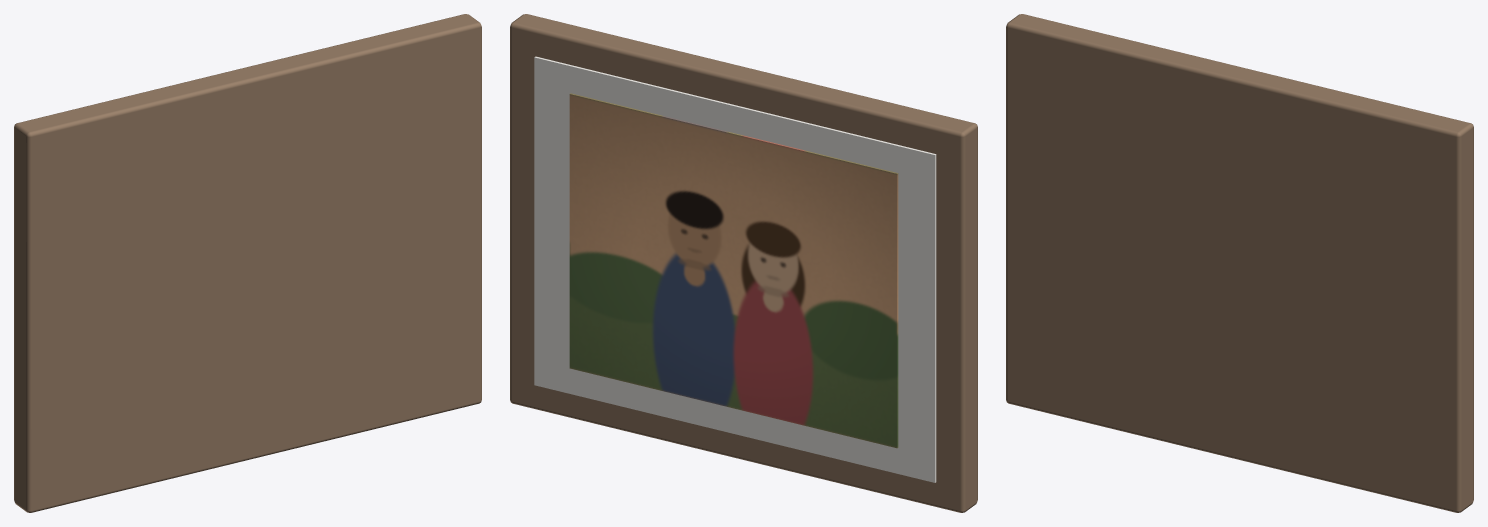
File: escena.casa.foto_pareja.fbx
3 views of the same model, side by side, from view 1: azimuth 30°, elevation 25°; view 2: azimuth 150°, elevation 25°; view 3: azimuth 330°, elevation 25° (orthographic).
Visible parts, largest first — view 1: Marco; view 2: Foto, Marco, Paspartu; view 3: Marco.
Boxes of the visible parts, bbox=[...] form: Marco: bbox=[14, 14, 481, 512]; Foto: bbox=[569, 93, 898, 448]; Marco: bbox=[510, 14, 977, 512]; Paspartu: bbox=[534, 56, 936, 482]; Marco: bbox=[1006, 14, 1473, 512].
Size of the model in its own units: 0.5 by 0.4 by 0.035.
Materials: 3 (1 with a texture image).
